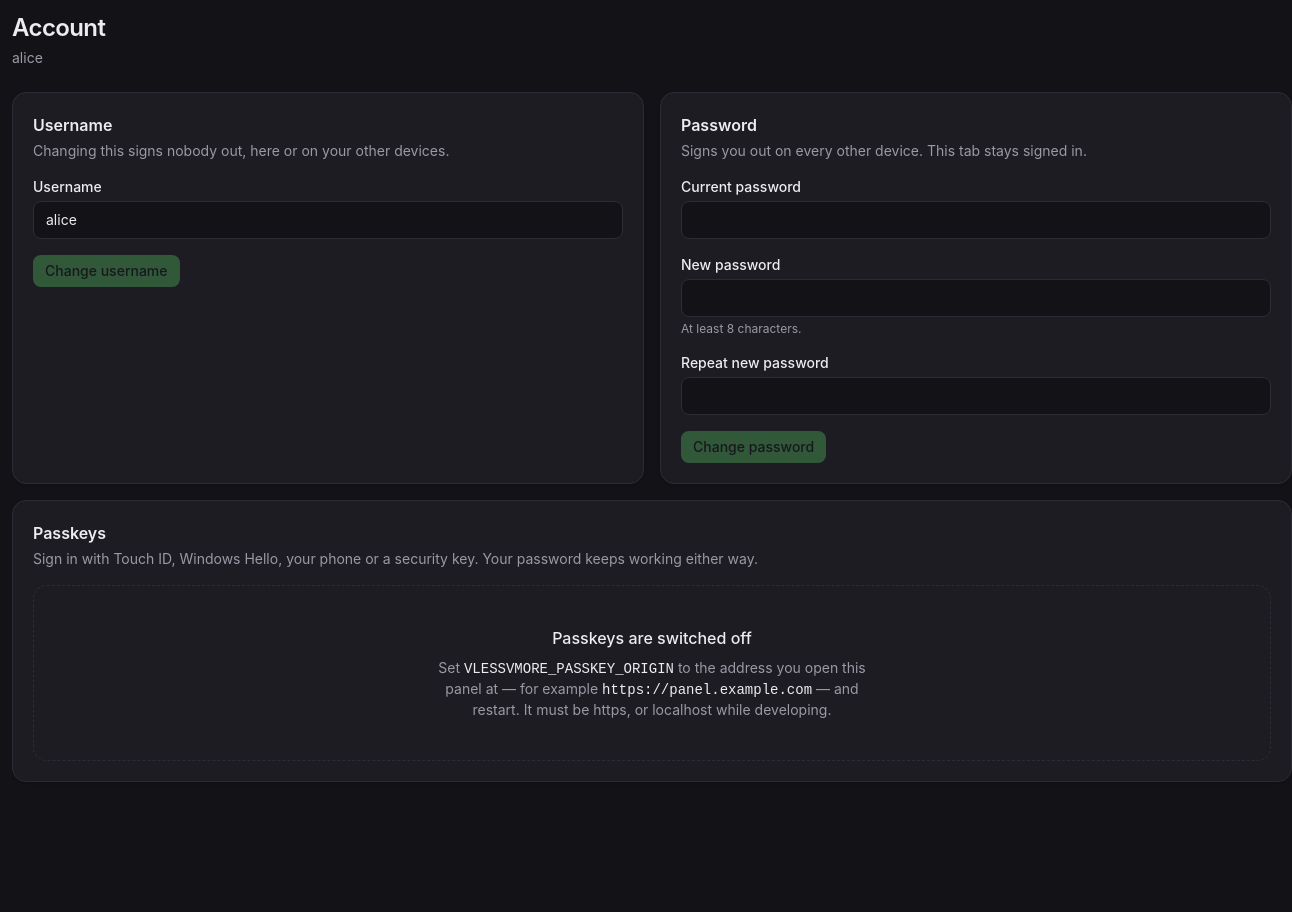
AccountPage › posts a username change with no password
The width and height of the screenshot is (1292, 912).
Expected: the heading "Account" is shown, [12, 12, 105, 44]
Replace the text in the field labelled "Username" with "carol" at (328, 220), box [33, 201, 623, 239]
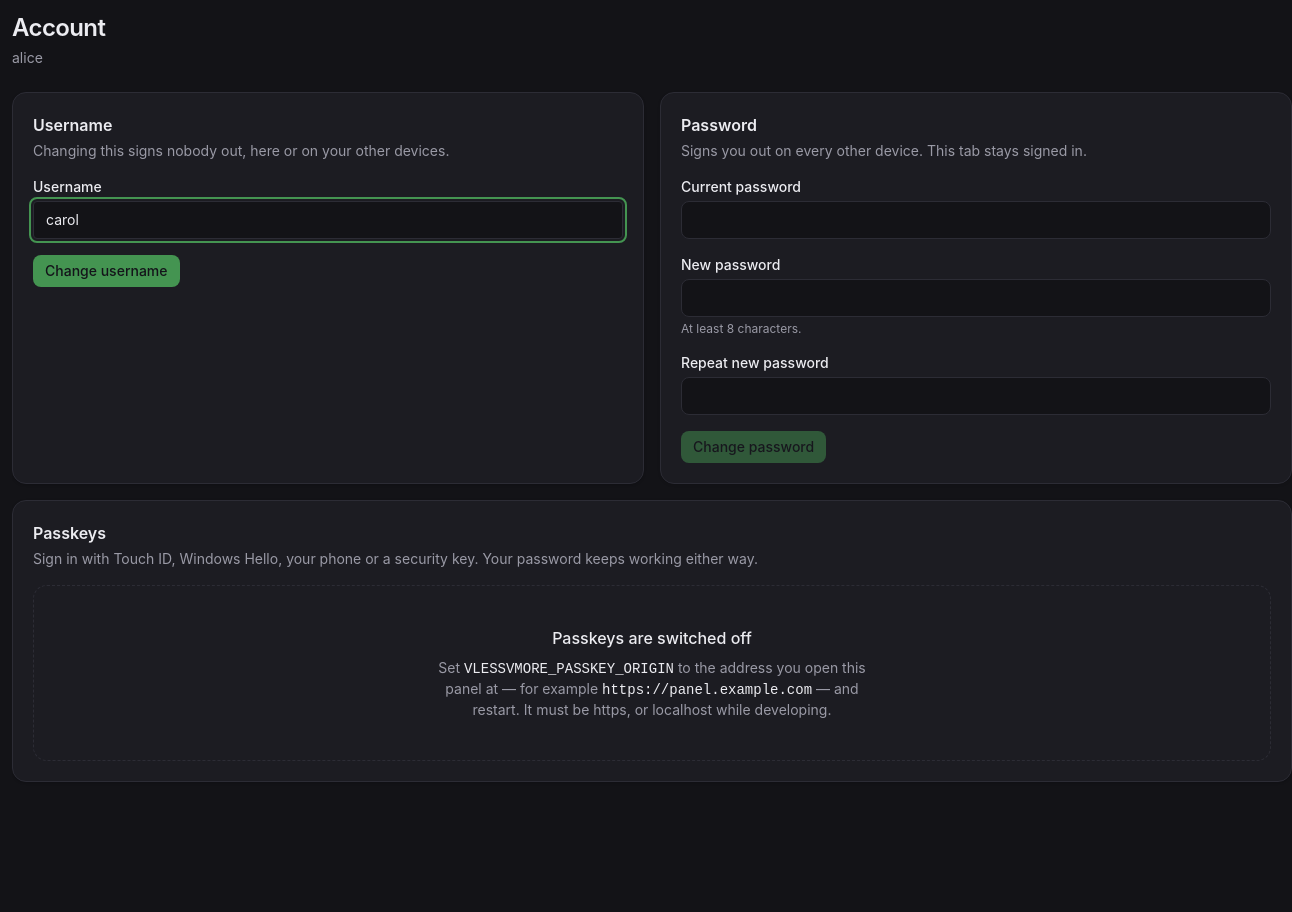
Click the button "Change username" at (106, 271), box [33, 255, 180, 287]
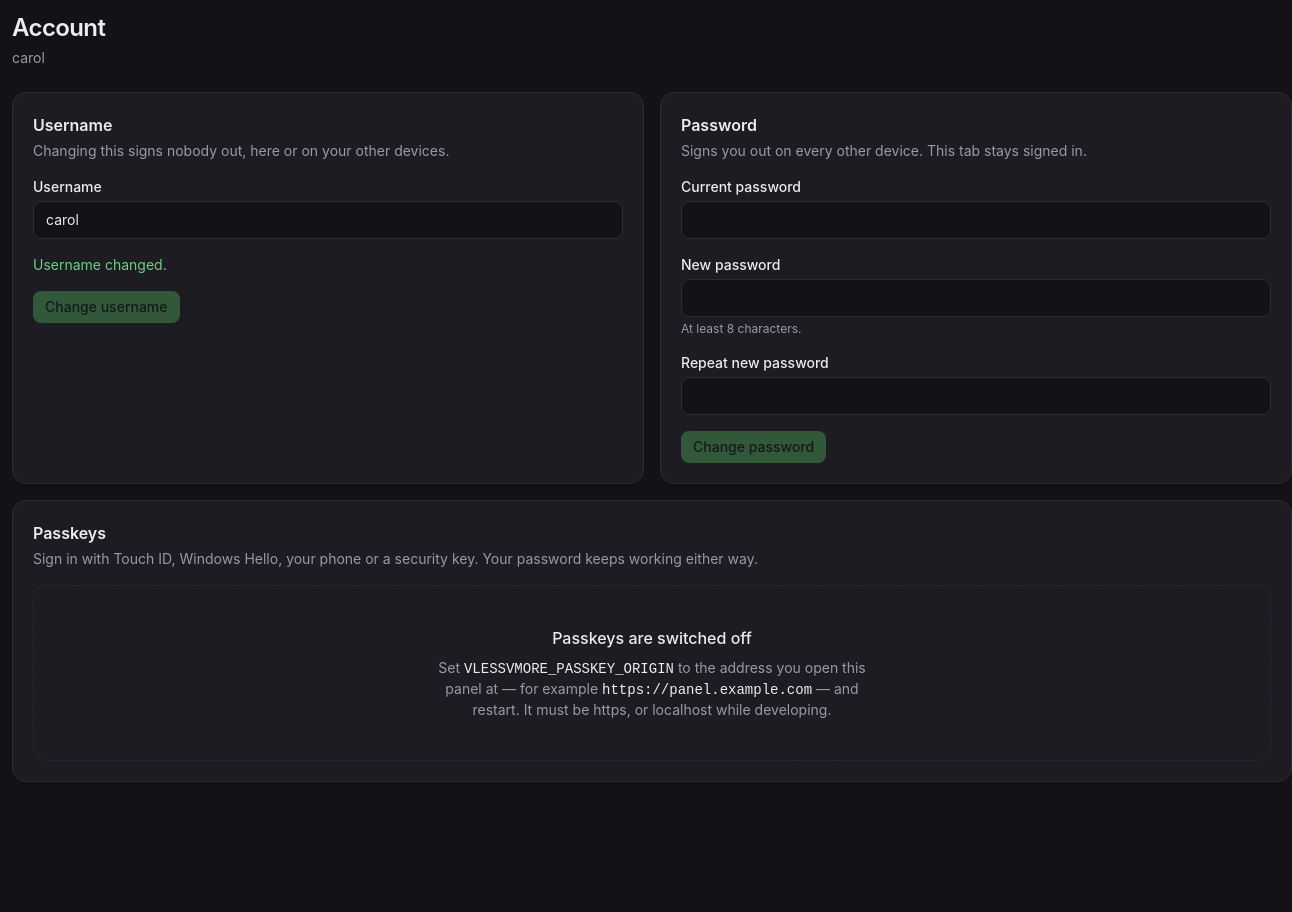
Expected: the number of password fields labelled "Current password" is 1, [681, 201, 1271, 239]
Expected: the text "Username changed." is shown, [33, 256, 167, 273]
